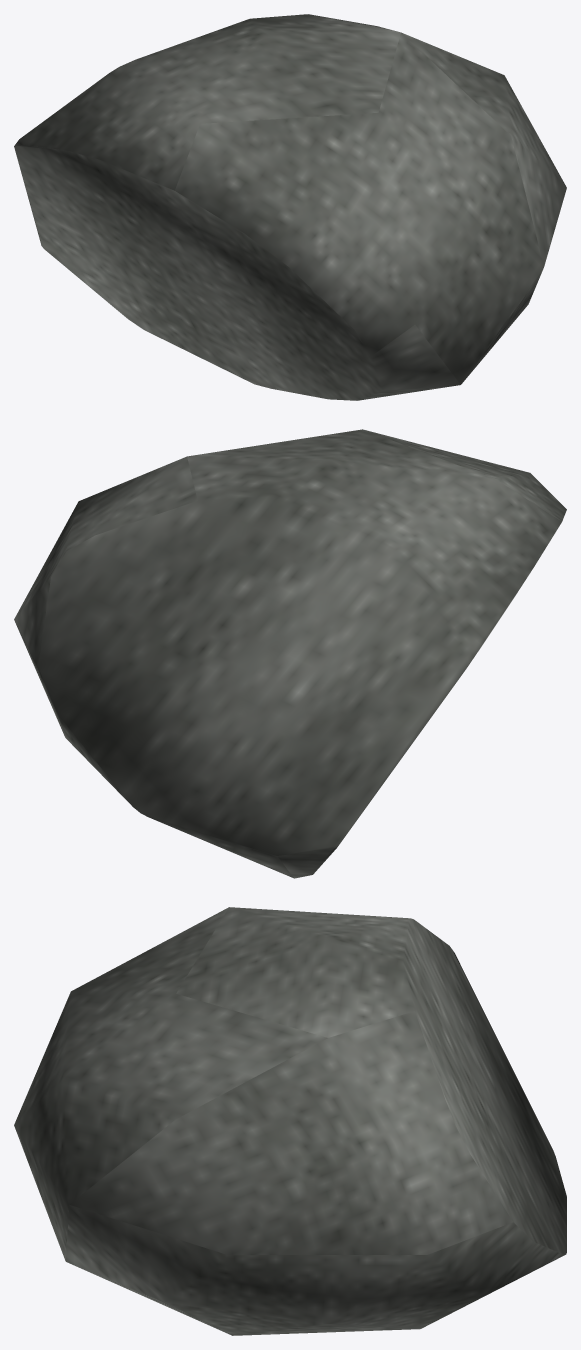
The model's file is boulder_23.glb.
3 views of the same model, one above another, from view 1: azimuth 30°, elevation 25°; view 2: azimuth 150°, elevation 25°; view 3: azimuth 270°, elevation 25° (orthographic). The views are drawn at different scales.
Parts seen in each view (by area): view 1: boulder_23; view 2: boulder_23; view 3: boulder_23.
Part boxes in pixels (box(x1,y1,x2,y2)): boulder_23: box(14, 14, 566, 400); boulder_23: box(14, 429, 566, 878); boulder_23: box(14, 907, 566, 1335).
Size of the model in its own units: 3.61 by 2.68 by 3.7.
Materials: 1 (1 with a texture image).
